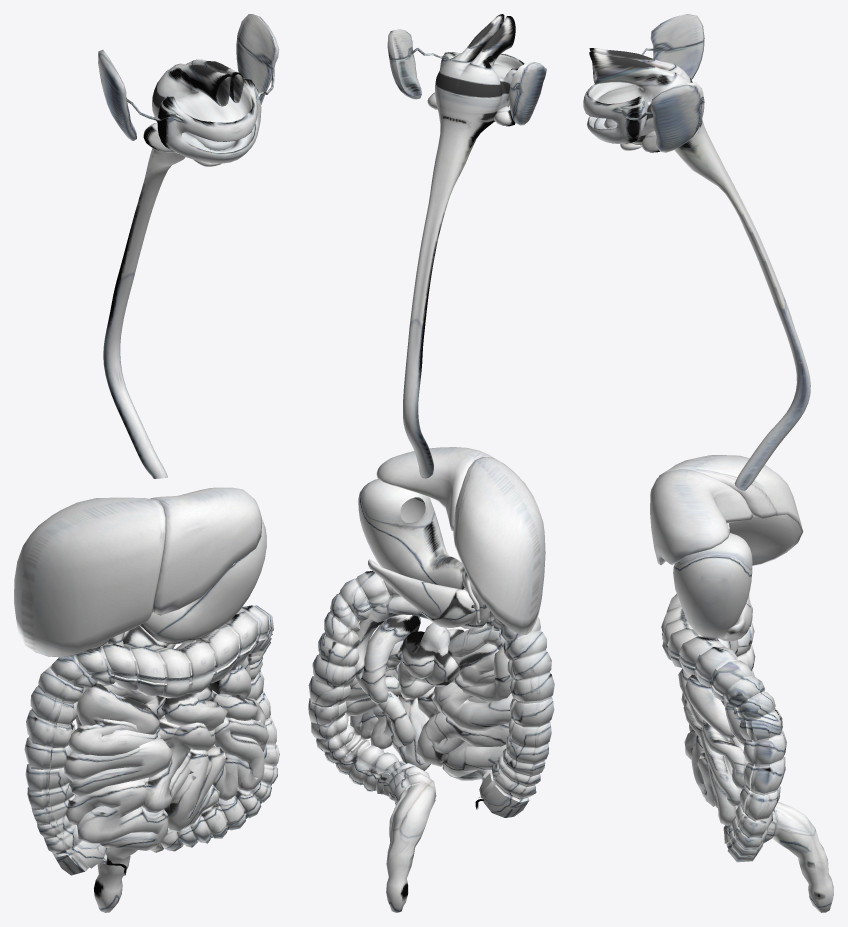
Rendered from digistive_system_textured_AR.fbx.
3 views of the same model, side by side, from view 1: azimuth 30°, elevation 25°; view 2: azimuth 150°, elevation 25°; view 3: azimuth 270°, elevation 25° (orthographic). The views are drawn at different scales.
Visible parts, largest first — view 1: polySurface1; view 2: polySurface1; view 3: polySurface1.
Boxes of the visible parts, left/top/right/bottom form: polySurface1: left=14, top=14, right=279, bottom=912; polySurface1: left=308, top=14, right=554, bottom=912; polySurface1: left=583, top=14, right=833, bottom=912.
Bounding box in the file's own units: 22.71 × 76.58 × 20.11.
Materials: 1 (1 with a texture image).
